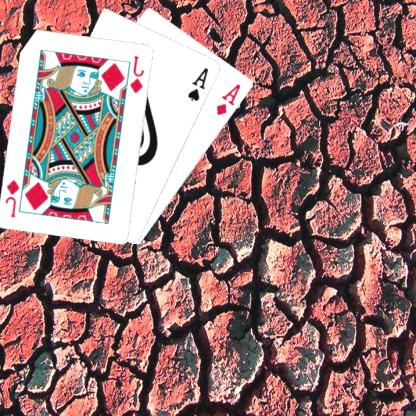AD: (216, 81, 244, 117)
AS: (187, 65, 212, 102)
JD: (129, 53, 148, 95), (5, 176, 22, 218)
